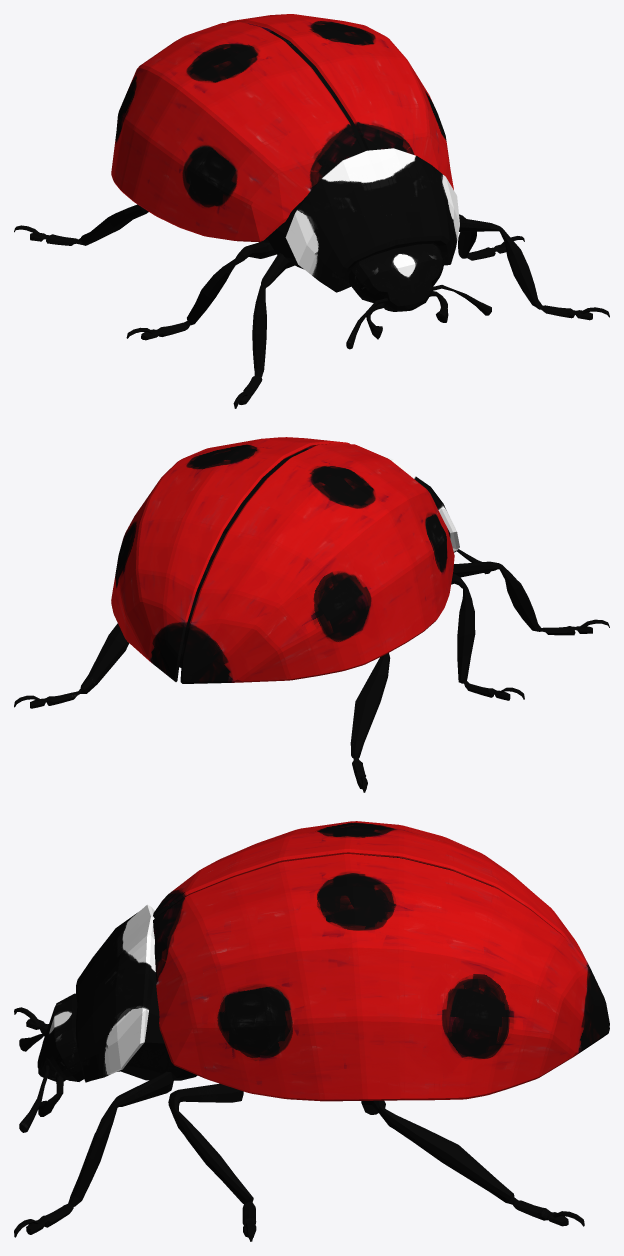
The model's file is Ladybug_model.fbx.
3 renders of one model, top to bottom at view 1: azimuth 30°, elevation 25°; view 2: azimuth 150°, elevation 25°; view 3: azimuth 270°, elevation 25°, orthographic. The views are drawn at different scales.
Parts seen in each view (by area): view 1: shell, Body; view 2: shell, Body; view 3: shell, Body.
Part boxes in pixels (<box>): shell: <box>111,14,453,242</box>; Body: <box>14,31,609,408</box>; shell: <box>111,437,454,683</box>; Body: <box>14,448,609,792</box>; shell: <box>153,821,609,1101</box>; Body: <box>14,854,584,1241</box>.
Size of the model in its own units: 293 by 161 by 312.
3 materials, 2 textured.
